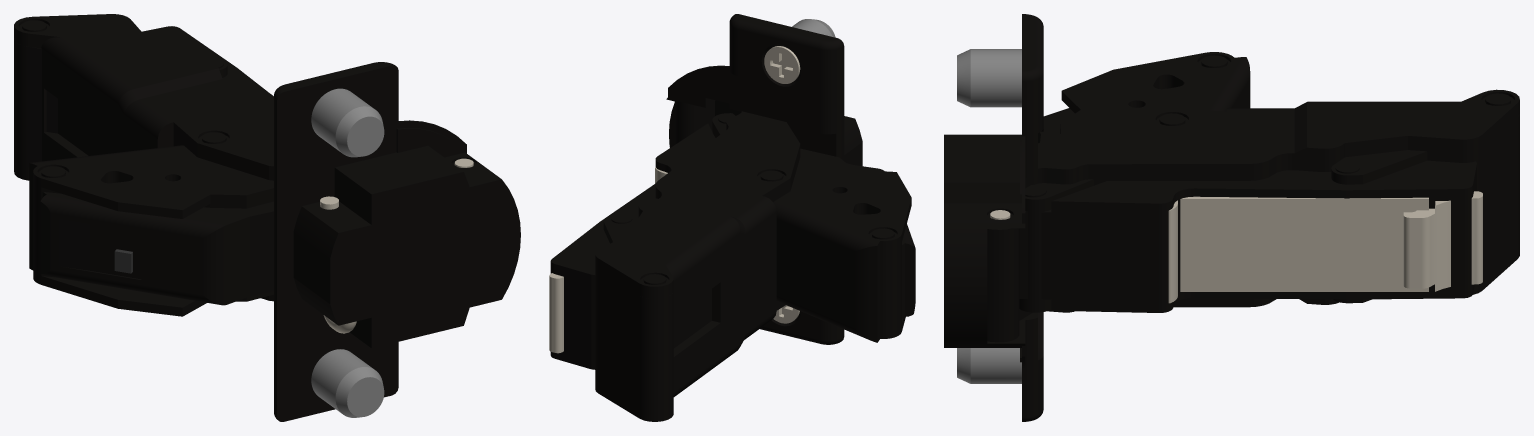
The picture shows the model from 3 angles, left to right: view 1: azimuth 30°, elevation 25°; view 2: azimuth 150°, elevation 25°; view 3: azimuth 270°, elevation 25°; orthographic projection. The views are drawn at different scales.
Visible parts, largest first — view 1: bau0079302490-1, bau0079291413-1, bau0079324562-1, bau0079298416-1, bau0015175113-1, bau0059100308-1, bau0059100308-2, bau0079262819-1; view 2: bau0079291413-1, bau0079298416-1, bau0079302490-1, bau0079262819-1, bau0015175113-1, bau0059100308-1, bau0025540121-1, bau0079324562-1, bau0059100308-2; view 3: bau0079291413-1, bau0079262819-1, bau0025540121-1, bau0079302490-1, bau0079298416-1, bau0059100308-1, bau0015175113-1, bau0059100308-2, bau0079324562-1.
Part boxes in pixels (bbox=[...]): bau0079302490-1: bbox=[274, 62, 520, 421]; bau0079291413-1: bbox=[14, 14, 273, 301]; bau0079324562-1: bbox=[40, 192, 273, 305]; bau0079298416-1: bbox=[29, 145, 273, 316]; bau0015175113-1: bbox=[14, 38, 227, 167]; bau0059100308-1: bbox=[311, 88, 384, 157]; bau0059100308-2: bbox=[311, 349, 384, 417]; bau0079262819-1: bbox=[142, 26, 266, 90]; bau0079291413-1: bbox=[595, 100, 800, 421]; bau0079298416-1: bbox=[712, 113, 911, 342]; bau0079302490-1: bbox=[666, 14, 862, 344]; bau0079262819-1: bbox=[550, 123, 715, 369]; bau0015175113-1: bbox=[603, 213, 673, 409]; bau0059100308-1: bbox=[764, 19, 835, 83]; bau0025540121-1: bbox=[549, 167, 667, 353]; bau0079324562-1: bbox=[846, 163, 915, 318]; bau0059100308-2: bbox=[773, 305, 799, 323]; bau0079291413-1: bbox=[987, 89, 1519, 342]; bau0079262819-1: bbox=[1019, 160, 1476, 312]; bau0025540121-1: bbox=[1168, 191, 1482, 303]; bau0079302490-1: bbox=[944, 14, 1043, 421]; bau0079298416-1: bbox=[1019, 52, 1250, 312]; bau0059100308-1: bbox=[957, 49, 1021, 107]; bau0015175113-1: bbox=[1331, 114, 1519, 303]; bau0059100308-2: bbox=[957, 348, 1021, 383]; bau0079324562-1: bbox=[1038, 88, 1166, 143].
Bounding box in the file's own units: 65.68 × 57 × 84.91.
